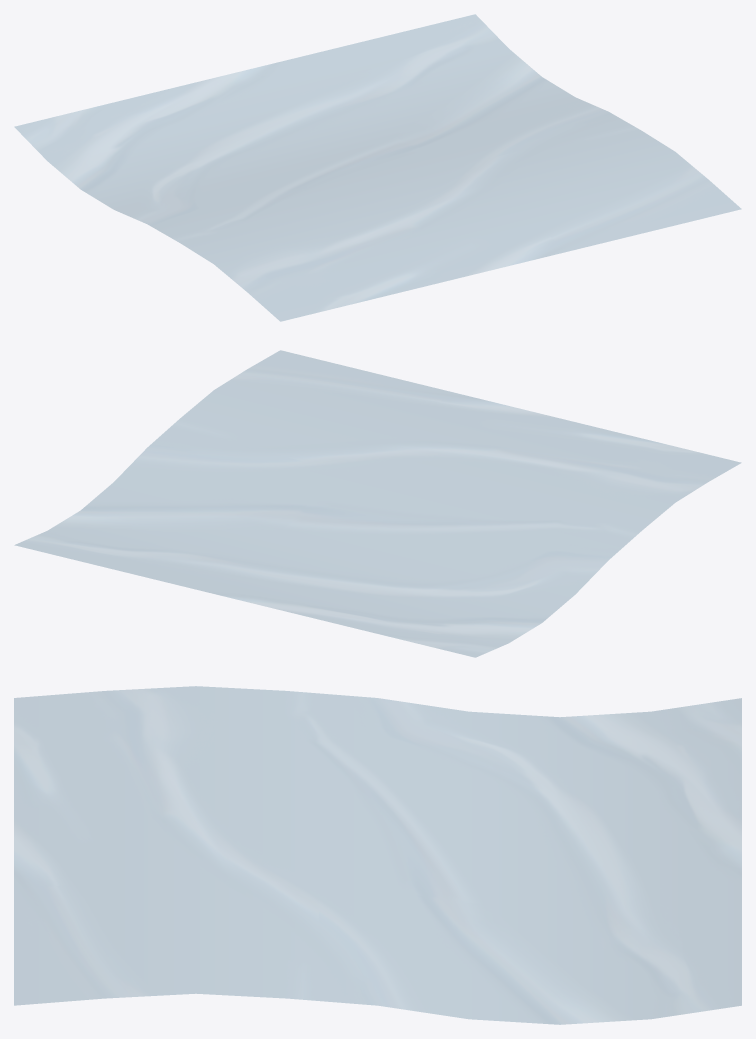
File: water_plane.fbx
The picture shows the model from 3 angles, top to bottom: view 1: azimuth 30°, elevation 25°; view 2: azimuth 150°, elevation 25°; view 3: azimuth 270°, elevation 25°; orthographic projection. The views are drawn at different scales.
Parts seen in each view (by area): view 1: water_plane1; view 2: water_plane1; view 3: water_plane1.
Boxes of the visible parts, x1,y1,x2,y2 form: water_plane1: (14,14,741,321); water_plane1: (14,350,741,657); water_plane1: (14,686,741,1024).
Size of the model in its own units: 10 by 0.4711 by 10.
1 material, 1 textured.
